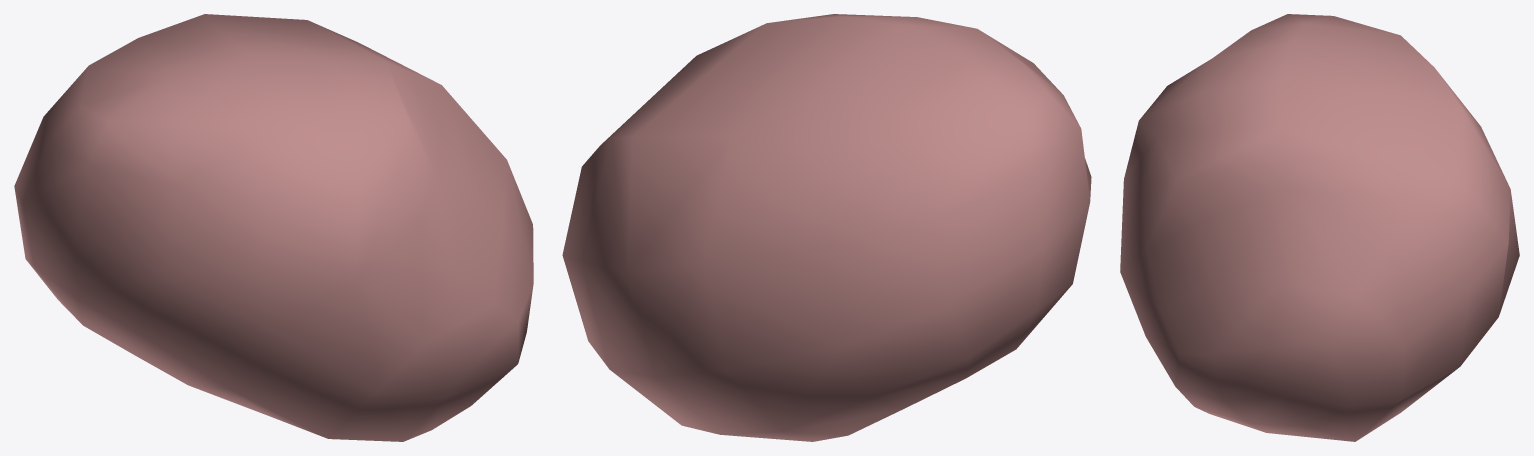
The model's file is SM_RocksRound_03.fbx.
The picture shows the model from 3 angles, left to right: view 1: azimuth 30°, elevation 25°; view 2: azimuth 150°, elevation 25°; view 3: azimuth 270°, elevation 25°; orthographic projection. The views are drawn at different scales.
Visible parts, largest first — view 1: SM_RocksRound_03; view 2: SM_RocksRound_03; view 3: SM_RocksRound_03.
Boxes of the visible parts, left/top/right/bottom form: SM_RocksRound_03: left=14, top=14, right=533, bottom=441; SM_RocksRound_03: left=562, top=14, right=1091, bottom=441; SM_RocksRound_03: left=1120, top=14, right=1519, bottom=441.
Bounding box in the file's own units: 73.66 × 59.28 × 64.94.
